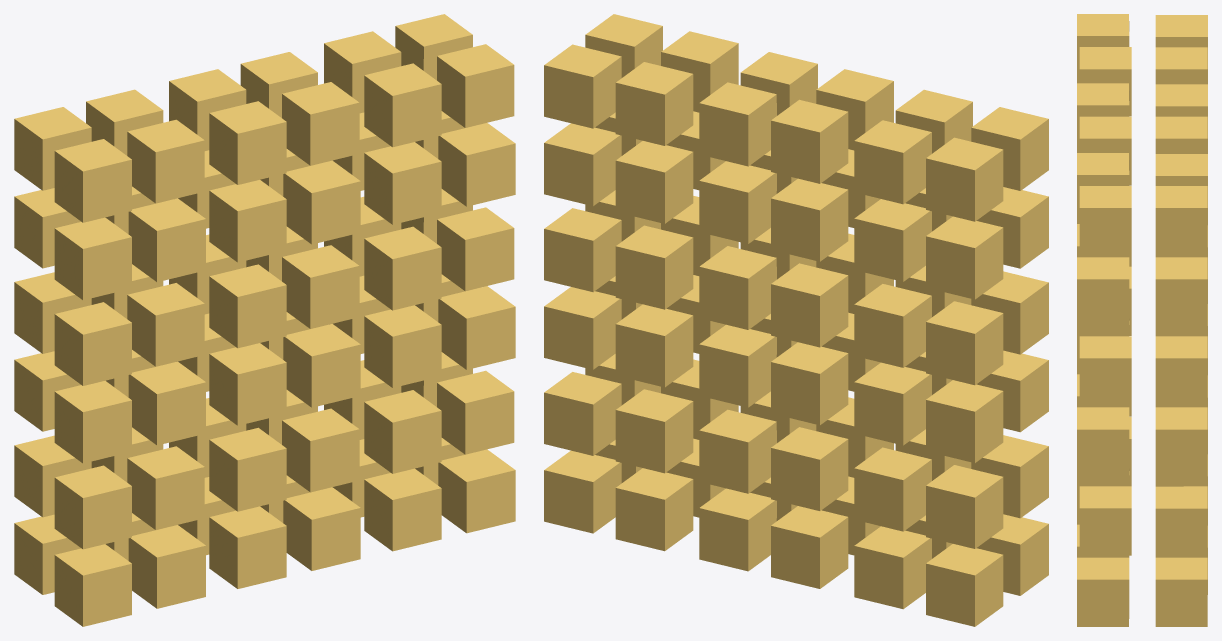
The model's file is Level1-5.BreakableCubesCells.fbx.
The picture shows the model from 3 angles, left to right: view 1: azimuth 30°, elevation 25°; view 2: azimuth 150°, elevation 25°; view 3: azimuth 270°, elevation 25°; orthographic projection. The views are drawn at different scales.
Parts seen in each view (by area): view 1: Cube_cell.030, Cube_cell.070, Cube_cell.014, Cube_cell.022, Cube_cell.046, Cube_cell.054, Cube_cell.006, Cube_cell.038, Cube_cell.062, Cube_cell.031, Cube_cell.071, Cube_cell.007 (+51 smaller); view 2: Cube_cell.044, Cube_cell.020, Cube_cell.068, Cube_cell.045, Cube_cell.021, Cube_cell.069, Cube_cell.004, Cube_cell.060, Cube_cell.028, Cube_cell.036, Cube_cell.012, Cube_cell.052 (+51 smaller); view 3: Cube_cell.018, Cube_cell.041, Cube_cell.065, Cube_cell.016, Cube_cell.017, Cube_cell.040, Cube_cell.042, Cube_cell.064, Cube_cell.066, Cube_cell.043, Cube_cell.067, Cube_cell.019 (+22 smaller).
Boxes of the visible parts, box(x1,y1,x2,y2) form: Cube_cell.030: box(209, 264, 286, 348); Cube_cell.070: box(364, 63, 441, 147); Cube_cell.014: box(54, 465, 131, 549); Cube_cell.022: box(364, 390, 441, 473); Cube_cell.046: box(364, 226, 441, 310); Cube_cell.054: box(209, 101, 286, 184); Cube_cell.006: box(209, 427, 286, 511); Cube_cell.038: box(54, 302, 131, 385); Cube_cell.062: box(54, 139, 131, 222); Cube_cell.031: box(209, 343, 286, 425); Cube_cell.071: box(364, 142, 441, 224); Cube_cell.007: box(209, 506, 286, 588); Cube_cell.044: box(615, 225, 693, 309); Cube_cell.020: box(615, 389, 693, 473); Cube_cell.068: box(615, 62, 693, 145); Cube_cell.045: box(615, 304, 693, 387); Cube_cell.021: box(615, 468, 693, 551); Cube_cell.069: box(615, 141, 693, 223); Cube_cell.004: box(771, 427, 848, 510); Cube_cell.060: box(926, 137, 1003, 221); Cube_cell.028: box(771, 263, 848, 347); Cube_cell.036: box(926, 301, 1003, 385); Cube_cell.012: box(926, 465, 1003, 548); Cube_cell.052: box(771, 99, 848, 183); Cube_cell.018: box(1079, 486, 1131, 555); Cube_cell.041: box(1155, 407, 1207, 476); Cube_cell.065: box(1155, 257, 1207, 326); Cube_cell.016: box(1155, 486, 1207, 555); Cube_cell.017: box(1155, 557, 1207, 626); Cube_cell.040: box(1155, 336, 1207, 405); Cube_cell.042: box(1079, 336, 1131, 405); Cube_cell.064: box(1155, 186, 1207, 255); Cube_cell.066: box(1079, 186, 1131, 255); Cube_cell.043: box(1077, 407, 1129, 476); Cube_cell.067: box(1077, 257, 1129, 326); Cube_cell.019: box(1077, 557, 1129, 626).
Size of the model in its own units: 562 by 565 by 160.
